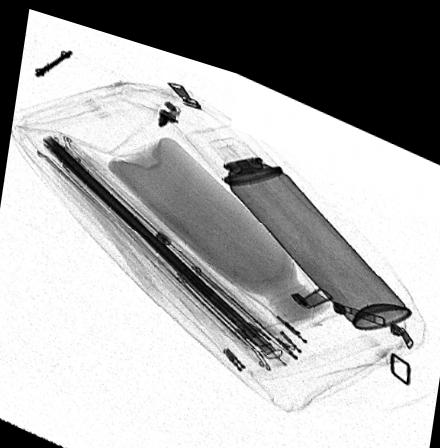Sprayer: (183, 108, 410, 309)
